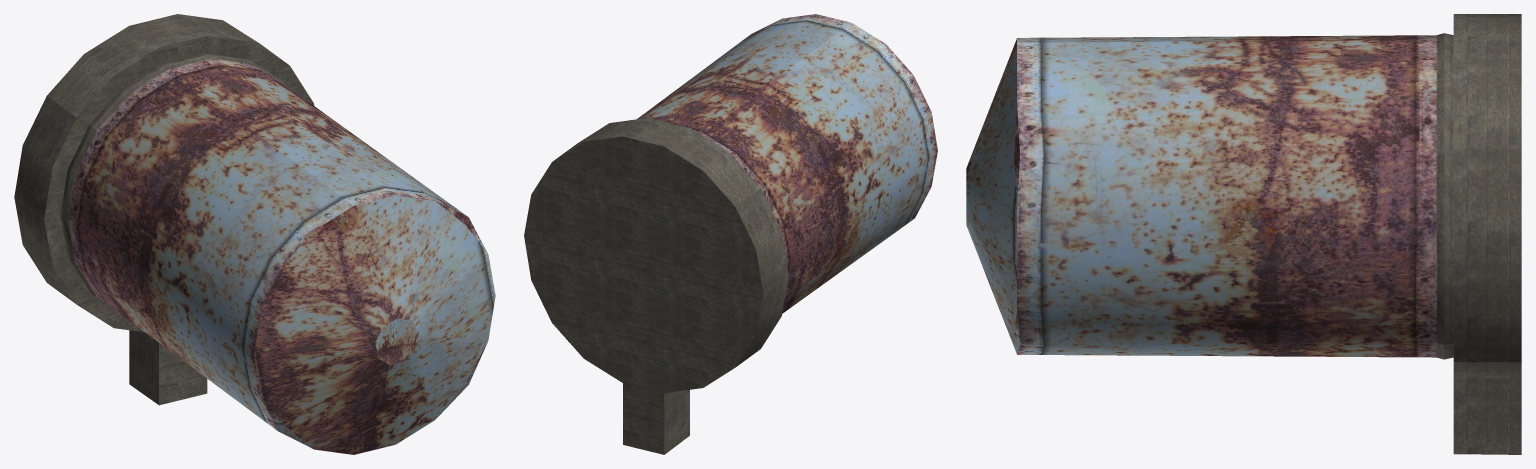
Rendered from oeltank_6_LOD1.fbx.
The picture shows the model from 3 angles, left to right: view 1: azimuth 30°, elevation 25°; view 2: azimuth 150°, elevation 25°; view 3: azimuth 270°, elevation 25°; orthographic projection. The views are drawn at different scales.
Visible parts, largest first — view 1: MDL-Objec2; view 2: MDL-Objec2; view 3: MDL-Objec2.
Boxes of the visible parts, x1,y1,x2,y2 form: MDL-Objec2: (14, 14, 495, 454); MDL-Objec2: (524, 14, 937, 454); MDL-Objec2: (966, 14, 1521, 454).
Bounding box in the file's own units: 6.3 × 7.75 × 9.55.
